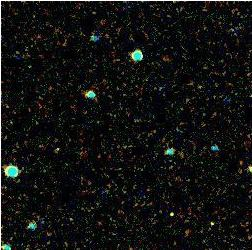star: (154, 201, 184, 231)
